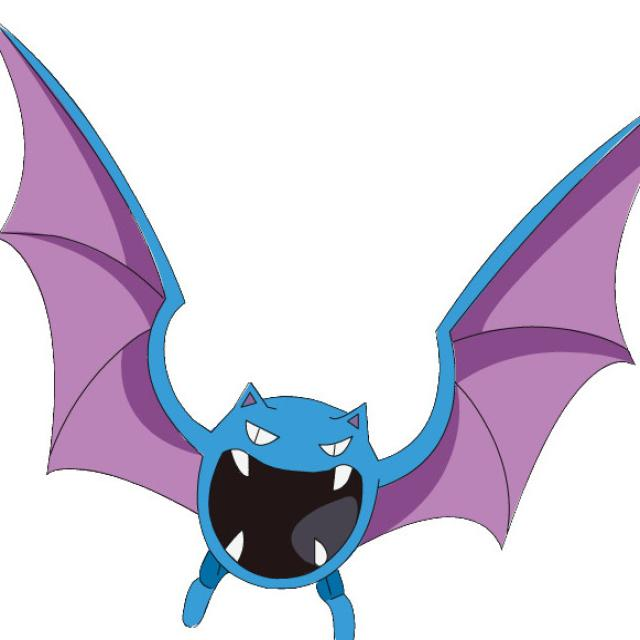Golbat: (42, 320, 506, 626)
